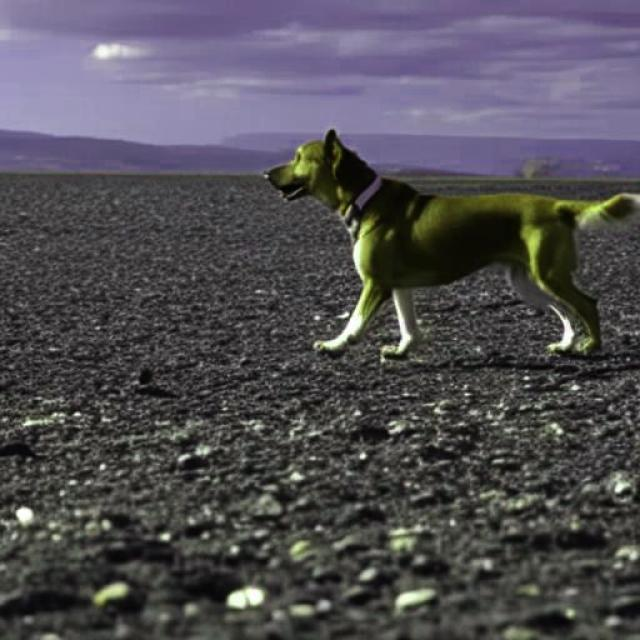Dog: (265, 128, 640, 360), (262, 354, 262, 356)
